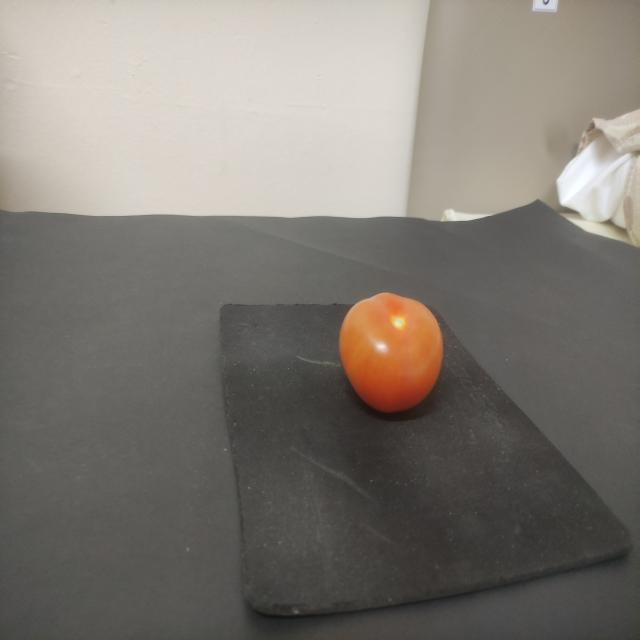sari: (329, 276, 468, 414)
